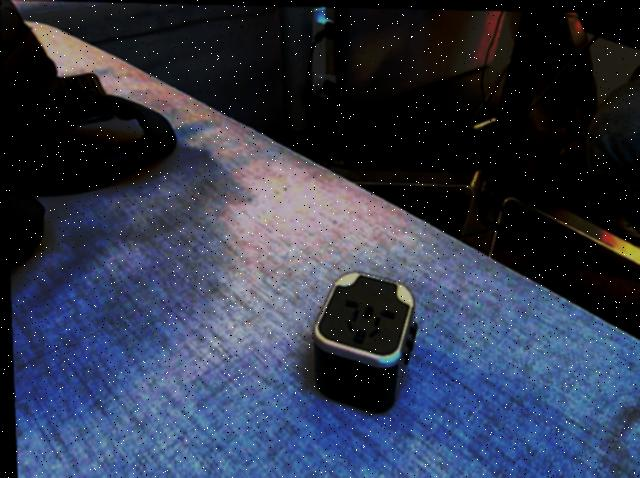adapter: (306, 269, 417, 414)
